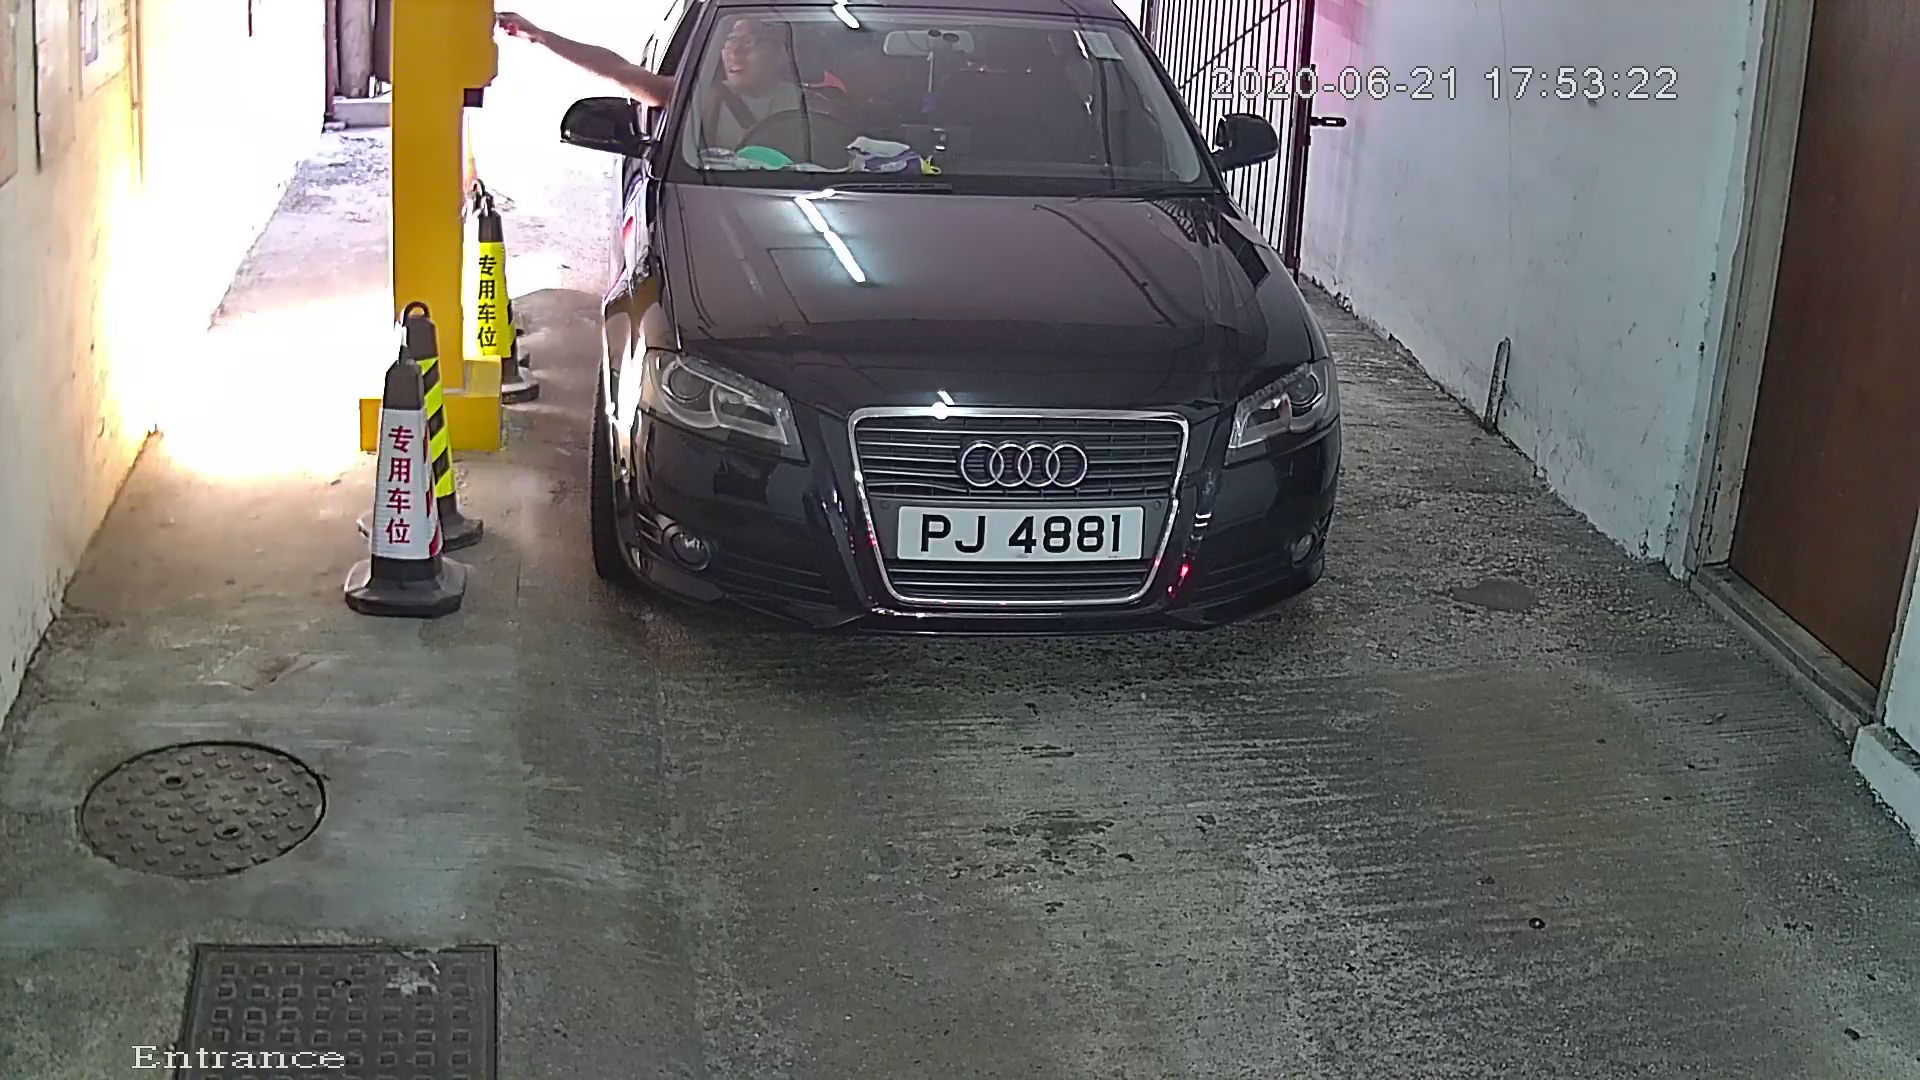privatecar: (563, 3, 1390, 705)
